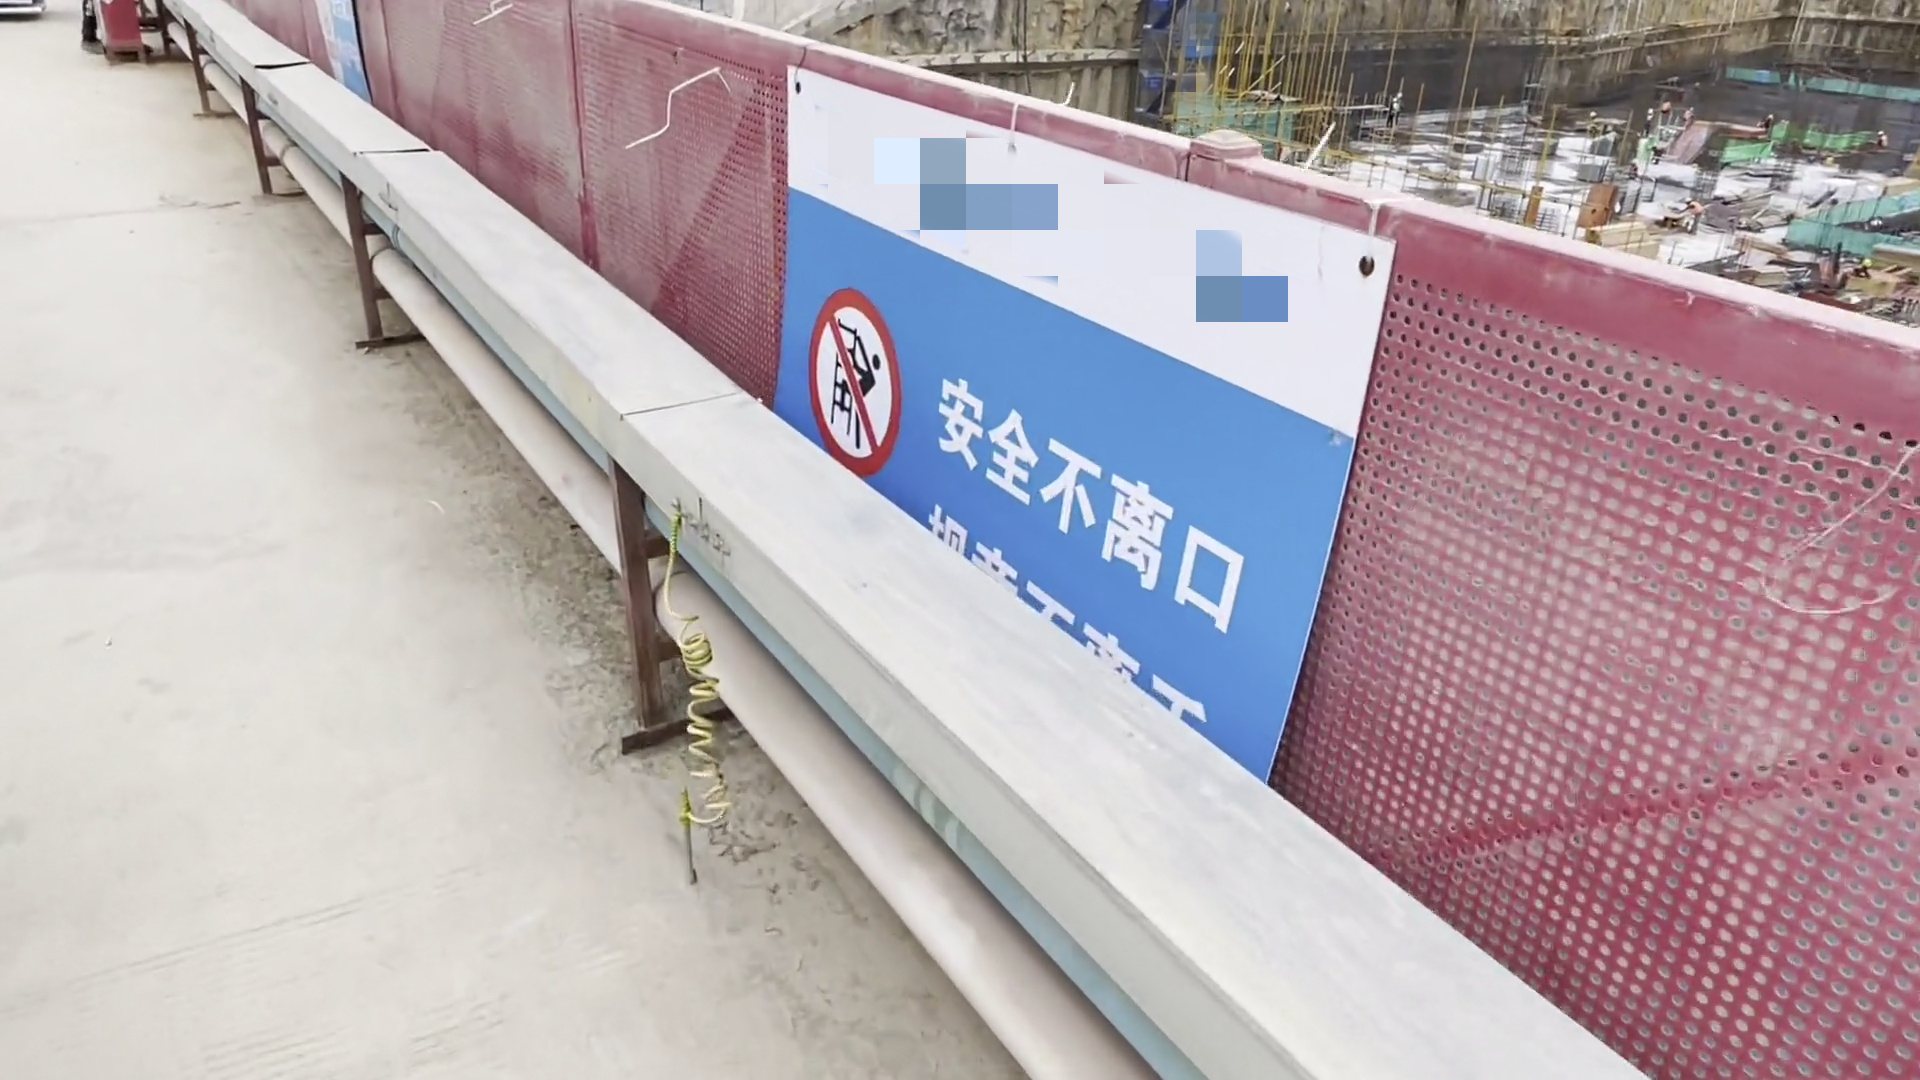slogan: (765, 46, 1382, 781)
